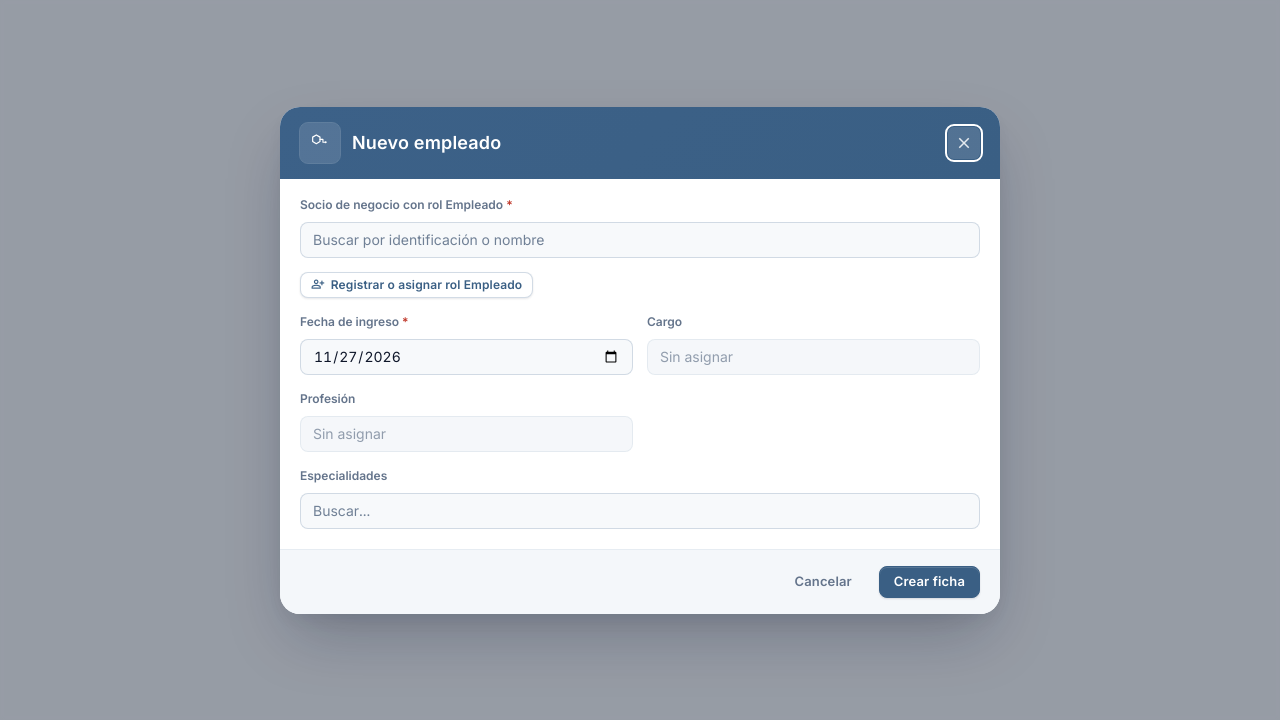
it: wizard de MasterData con rol Employee (D-1) › un socio con RUC no se puede asignar como empleado; cédula y pasaporte sí
Click the button "Registrar o asignar rol Empleado".
click(417, 284)  # box [300,272,533,298]
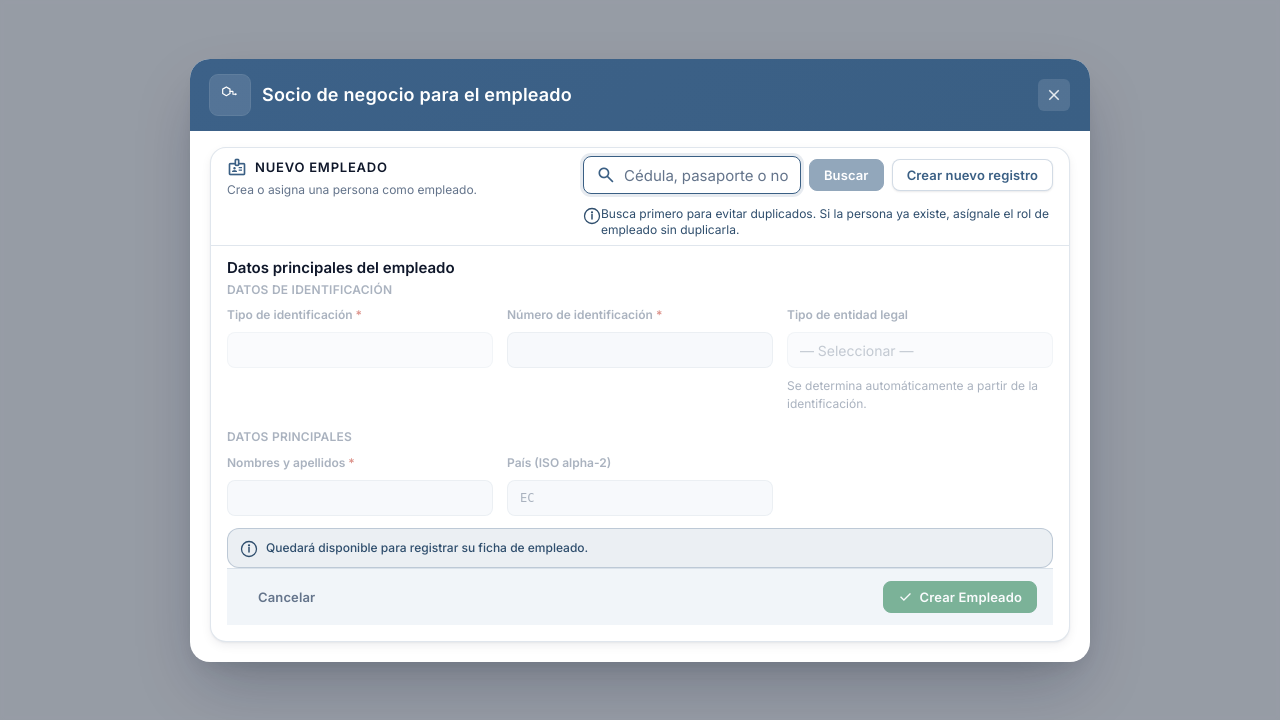
Type "0102030400" into the field with placeholder "Cédula, pasaporte o nombres…".
click(706, 175); type("0102030400")  # box [624,157,788,193]
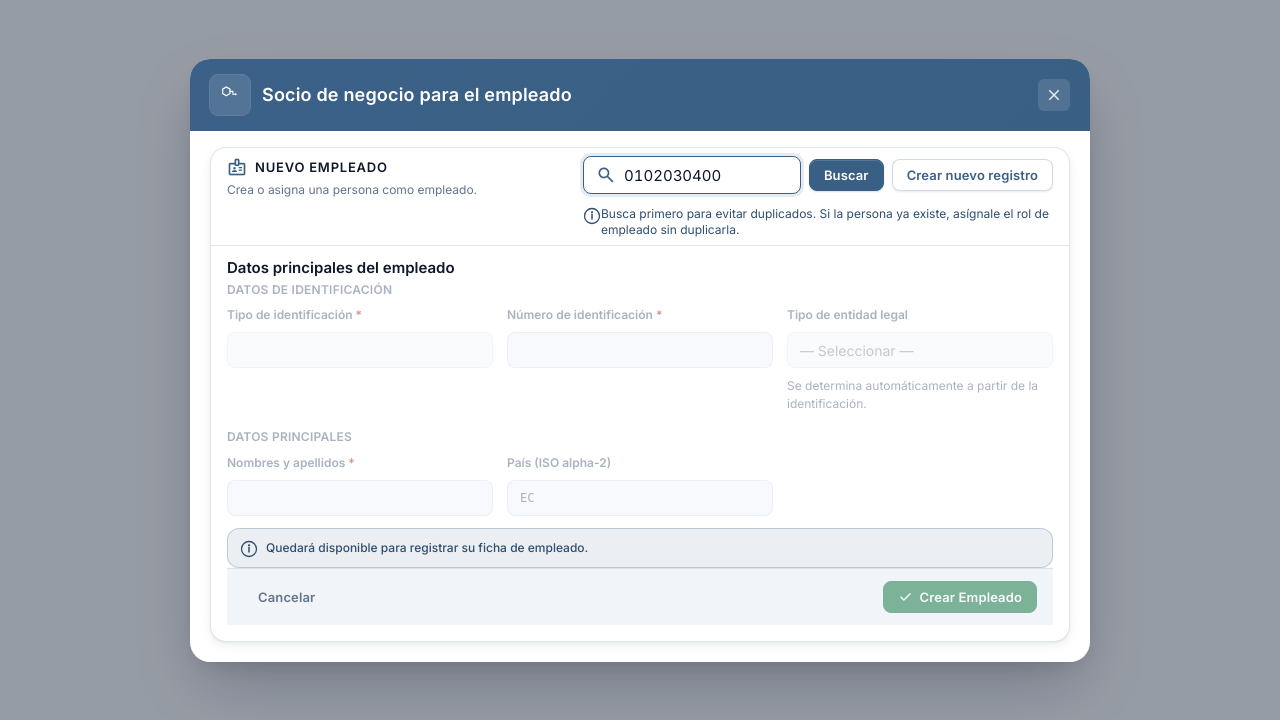
Click the button "Buscar".
click(846, 175)  # box [809,159,884,191]
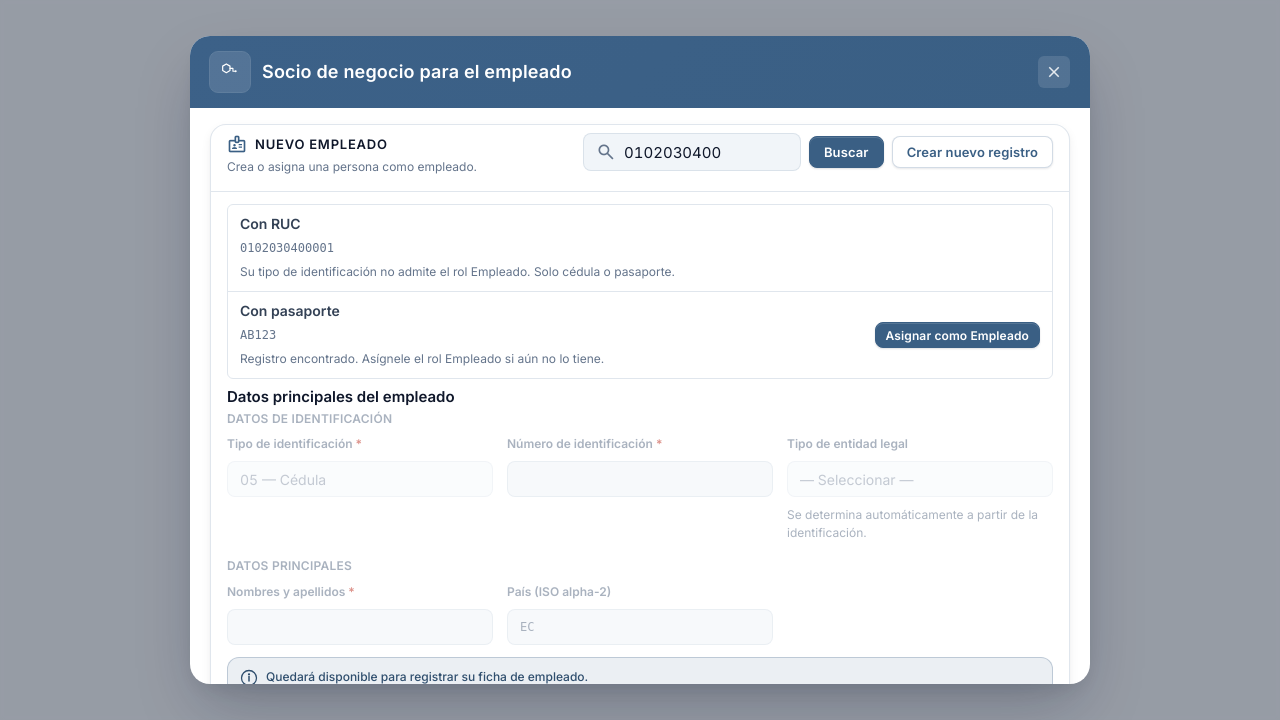
Expected: the text "no admite el rol Empleado" is shown, [240,264,675,279]
Expected: the number of buttons "Asignar como Empleado" is 1, [874,322,1040,348]
